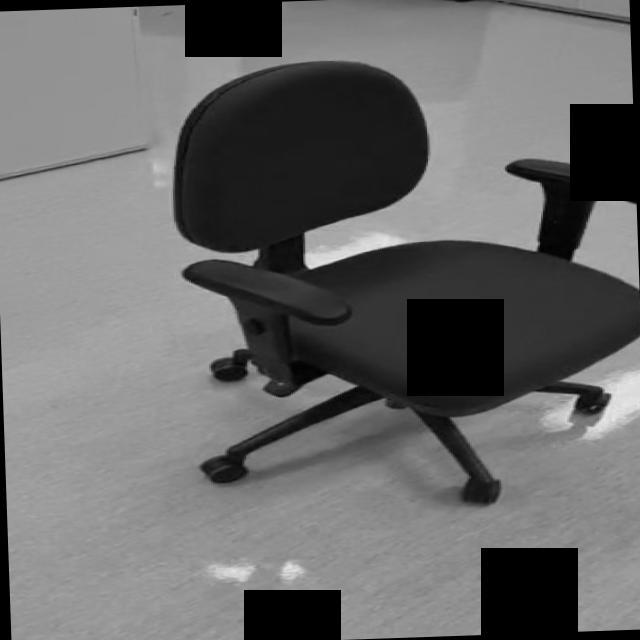chair: (166, 49, 640, 515)
